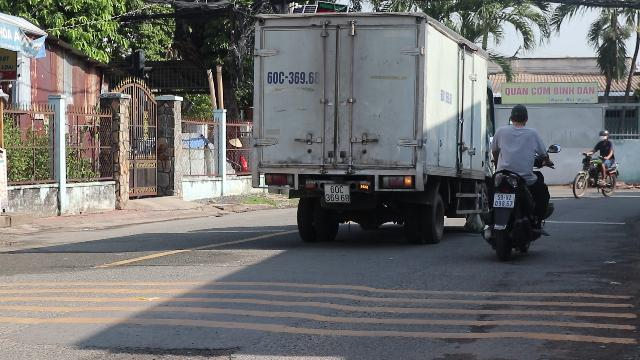licenseplate: (494, 193, 514, 207)
motorcyclist: (484, 103, 554, 259)
nohelmet: (508, 104, 528, 126)
